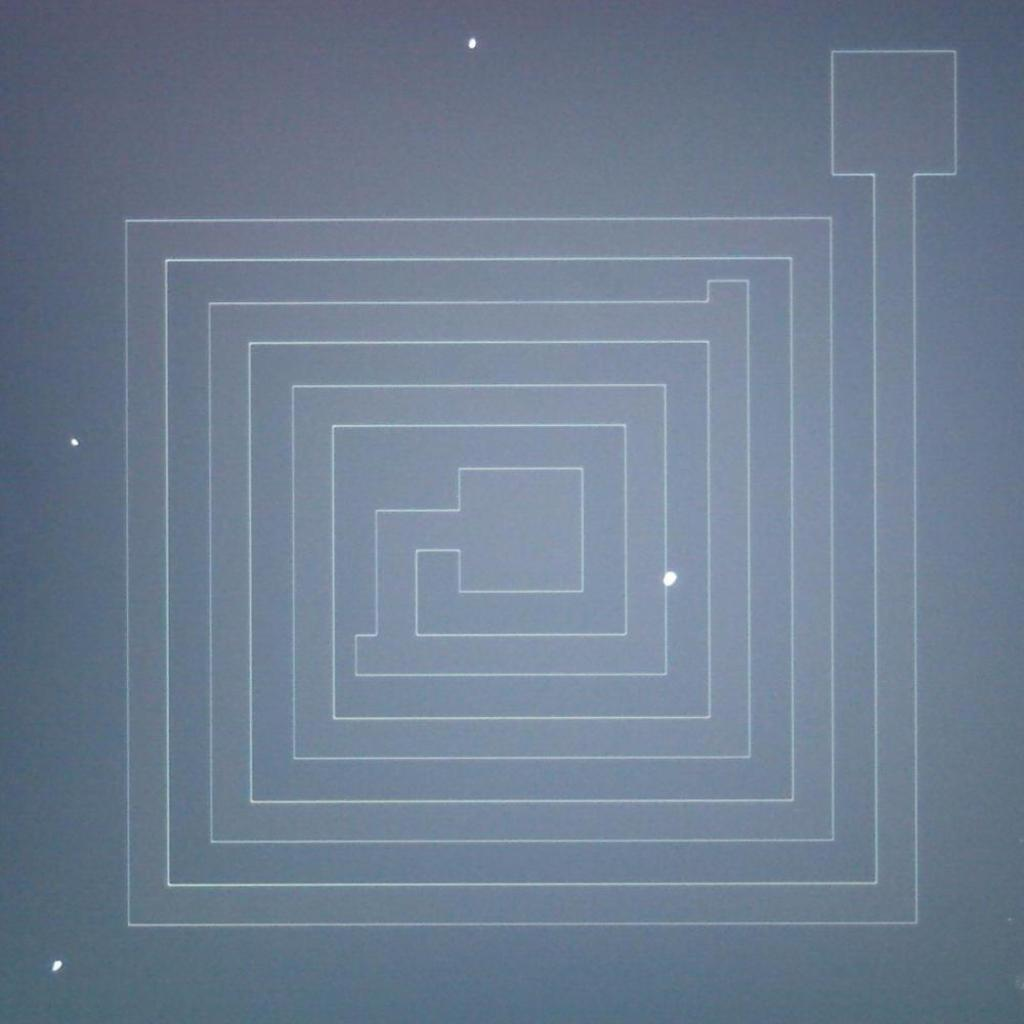budge circuit: (690, 272, 760, 318), (348, 623, 386, 689)
dot: (61, 427, 86, 455)
spot: (649, 558, 687, 598), (41, 950, 72, 983), (458, 28, 488, 59)
